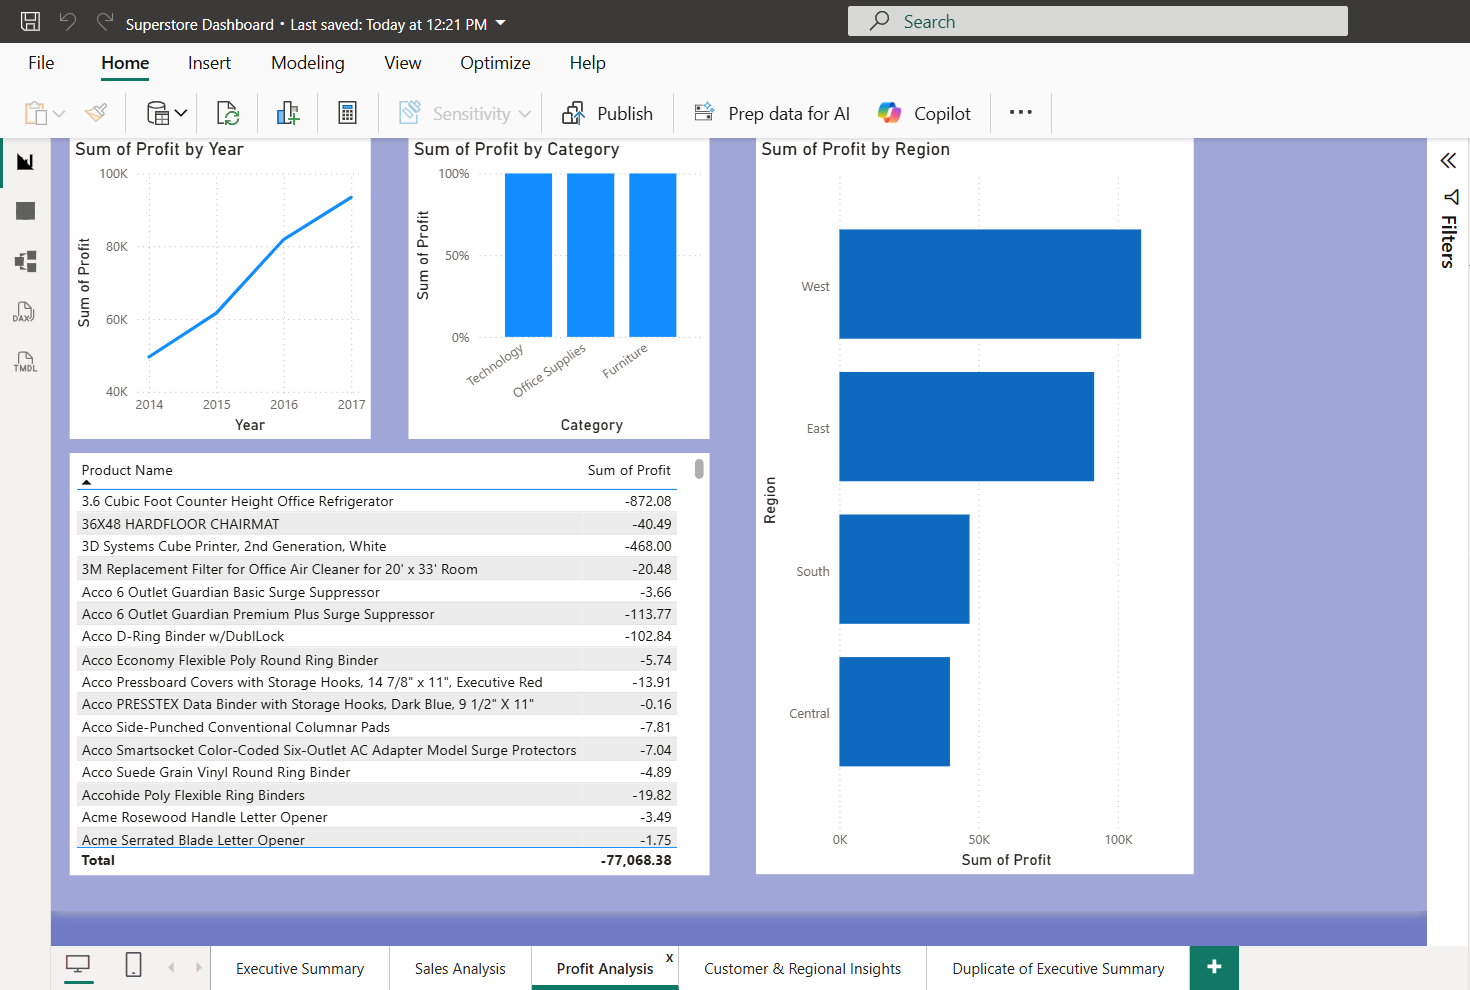

This screenshot's page, from the dashboard's own definition file:
{"tool":"powerbi","page":{"name":"Profit Analysis","canvas":[1280,720],"ordinal":2},"visuals":[{"type":"lineChart","fields":{"Category":["Orders.Order Date.Variation.Date Hierarchy.Year","Orders.Order Date.Variation.Date Hierarchy.Quarter","Orders.Order Date.Variation.Date Hierarchy.Month","Orders.Order Date.Variation.Date Hierarchy.Day"],"Y":["Sum(Orders.Profit)"]},"box":[17.5,0,280,280],"z":0},{"type":"hundredPercentStackedColumnChart","fields":{"Category":["Main.Category"],"Y":["Sum(Main.Profit)"]},"box":[332.5,0,280,280],"z":1000},{"type":"tableEx","fields":{"Values":["Main.Product Name","Sum(Main.Profit)"]},"box":[17.5,292.5,595,392.5],"z":2000},{"type":"clusteredBarChart","fields":{"Category":["Main.Region"],"Y":["Sum(Main.Profit)"]},"box":[656.2,0,407.5,685],"z":3000}]}

Visuals, with their boxes on the page's 1280x720 design canvas (x1, y1, x2, y2). These are canvas units, not pixel positions in the 1470x990 screenshot, which may show the page scaled, cropped or inside an application window:
lineChart - Orders.Order Date.Variation.Date Hierarchy.Year x Orders.Order Date.Variation.Date Hierarchy.Quarter: 18:0:298:280
hundredPercentStackedColumnChart - Main.Category x Sum(Main.Profit): 332:0:612:280
tableEx - Main.Product Name x Sum(Main.Profit): 18:292:612:685
clusteredBarChart - Main.Region x Sum(Main.Profit): 656:0:1064:685
